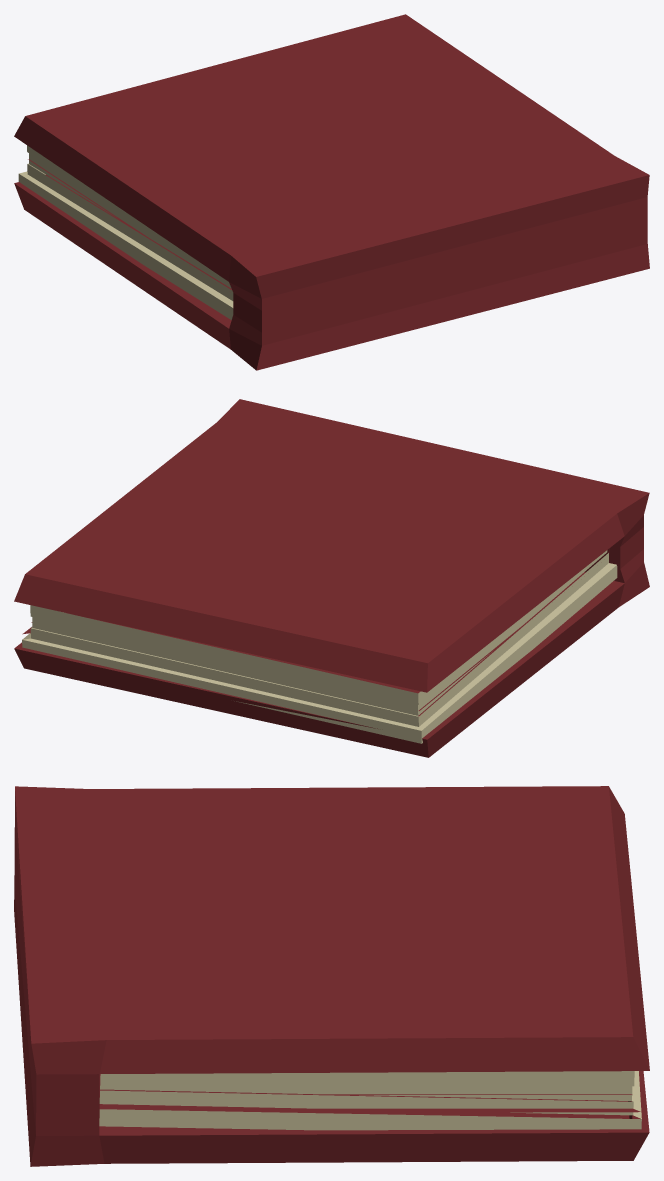
The model's file is boek.fbx.
3 views of the same model, one above another, from view 1: azimuth 30°, elevation 25°; view 2: azimuth 150°, elevation 25°; view 3: azimuth 270°, elevation 25° (orthographic). The views are drawn at different scales.
Parts seen in each view (by area): view 1: kaft, papier; view 2: kaft, papier; view 3: kaft, papier.
Part boxes in pixels (x1,y1,x2,y2): kaft: (14,14,649,370); papier: (18,145,233,319); kaft: (14,399,649,757); papier: (22,550,617,743); kaft: (14,786,649,1166); papier: (99,1071,641,1130).
Bounding box in the file's own units: 26.39 × 5.9 × 26.85.
